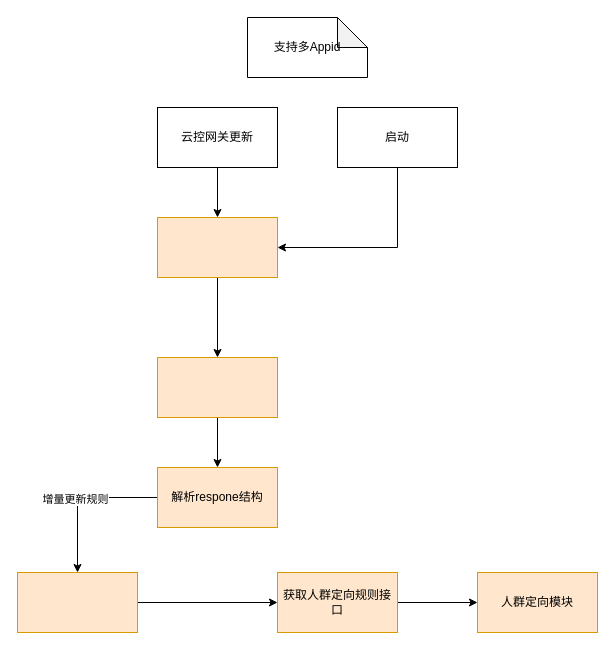
This 615x650 diagram has some shape labels left out. The centre of each missing label's shape, as x and y in pixels:
人群定向规则数据库表: point 77,602
请求人群定向规则服务接口: point 217,387
频率限制: point 217,247
